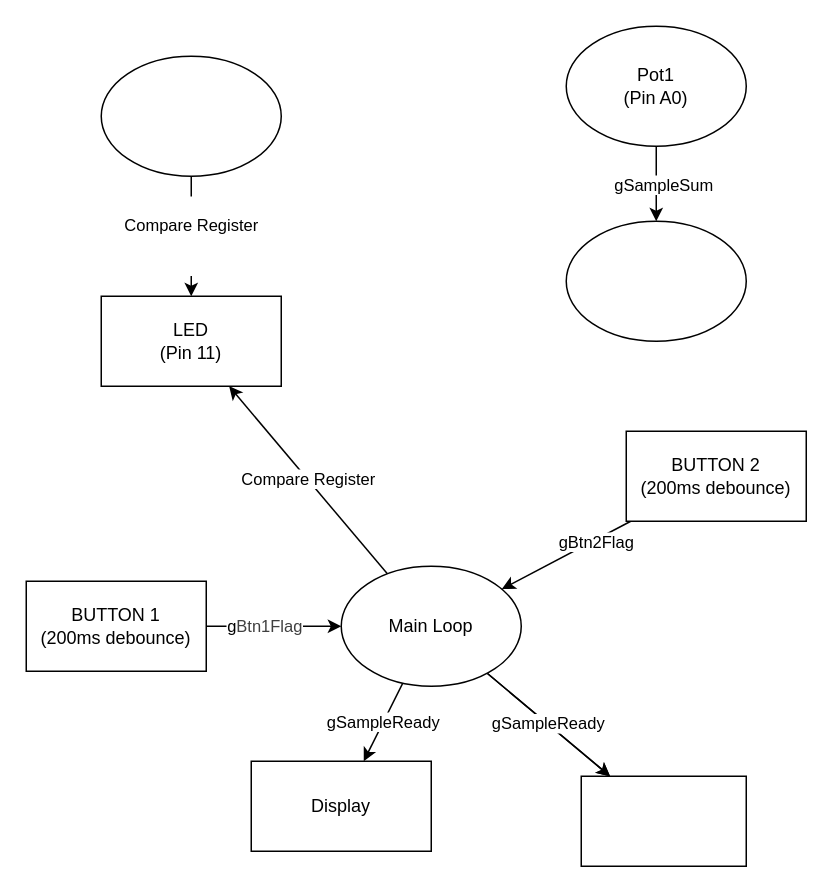
This 833x893 diagram has some shape labels left out. The centre of each missing label's shape, as x and y in pixels:
"Serial" goes at pixel 663 820.
"Timer 1 (20Hz)" goes at pixel 655 280.
"Timer 2 (255 Hz)" goes at pixel 190 115.
